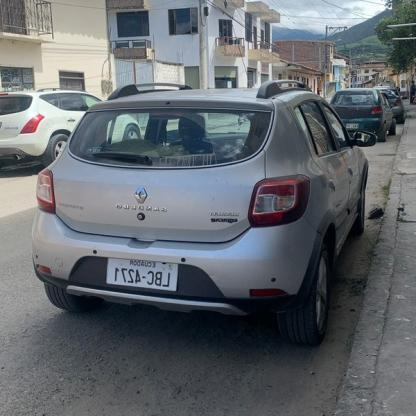Placa: (100, 256, 184, 295)
